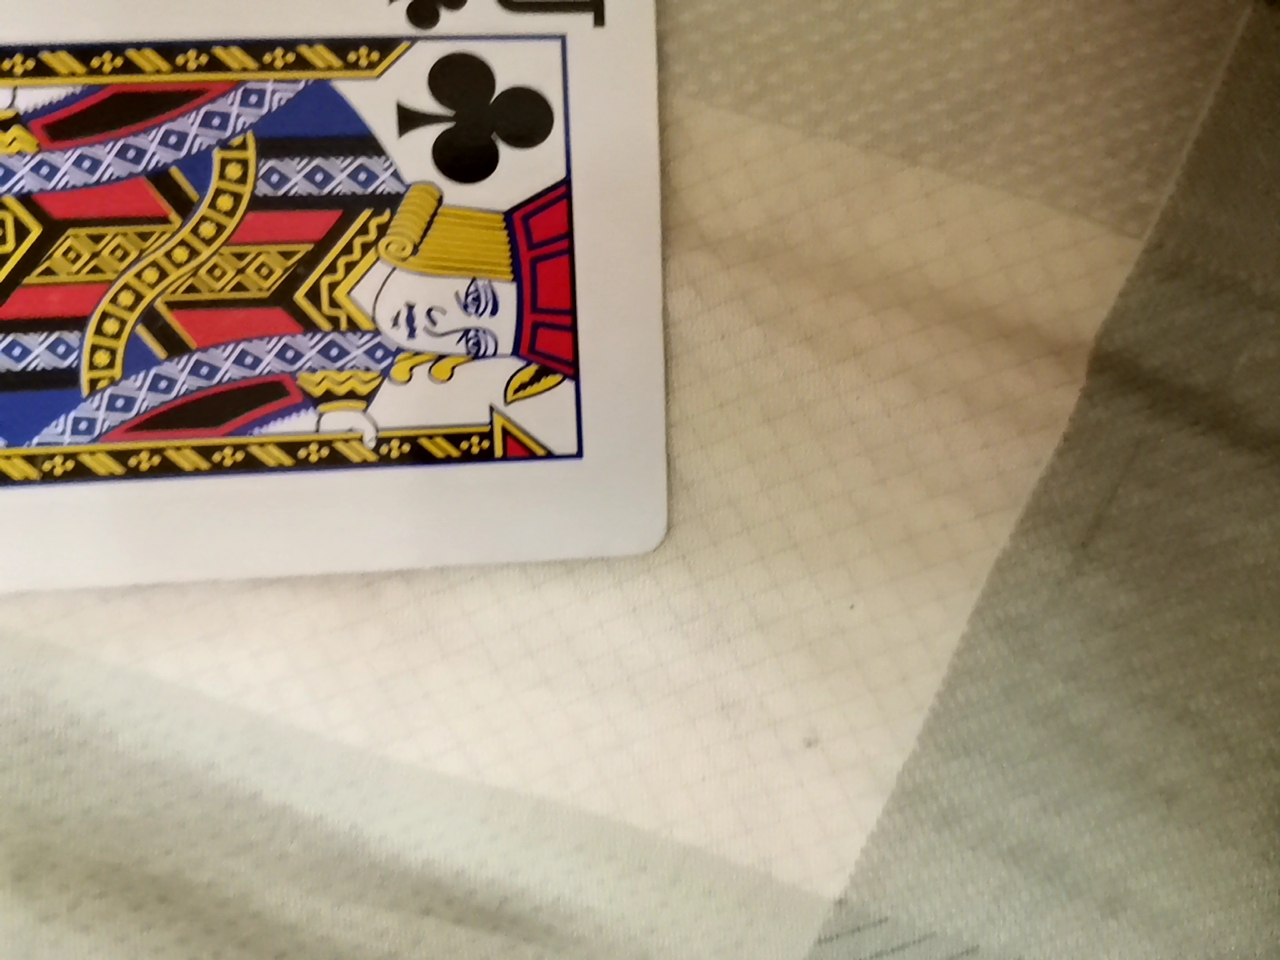mh j: (0, 1, 671, 621)
